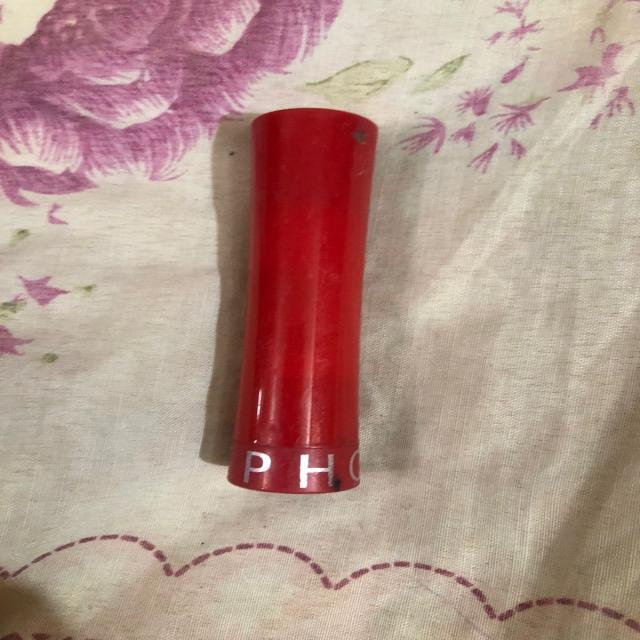lip stick: (204, 86, 425, 514)
